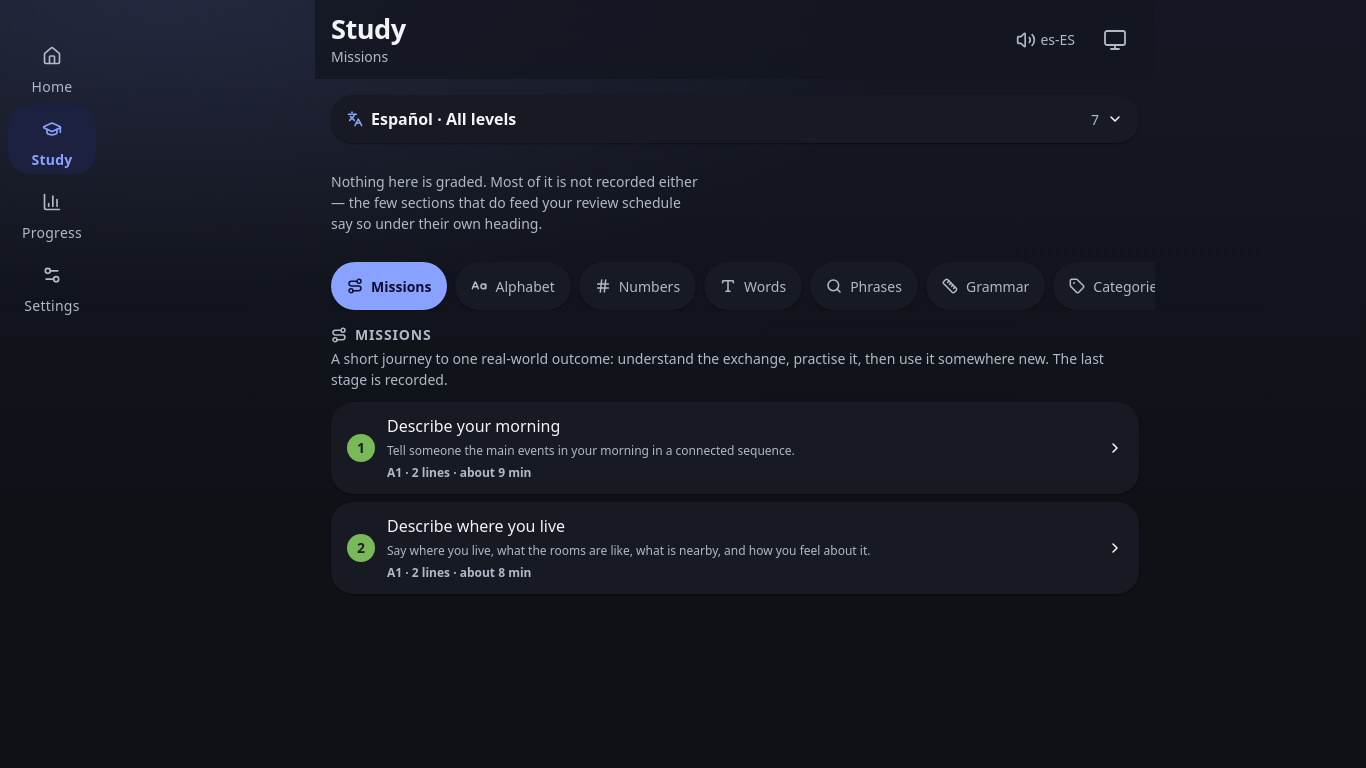
Scenario: the course scope on Study › states the scope in one line and opens the control over the page
This screenshot has width=1366, height=768.
Expected: the element "Course" is not shown
Click the button "Español · All levels 7" at (402, 119), box [331,95,1139,143]
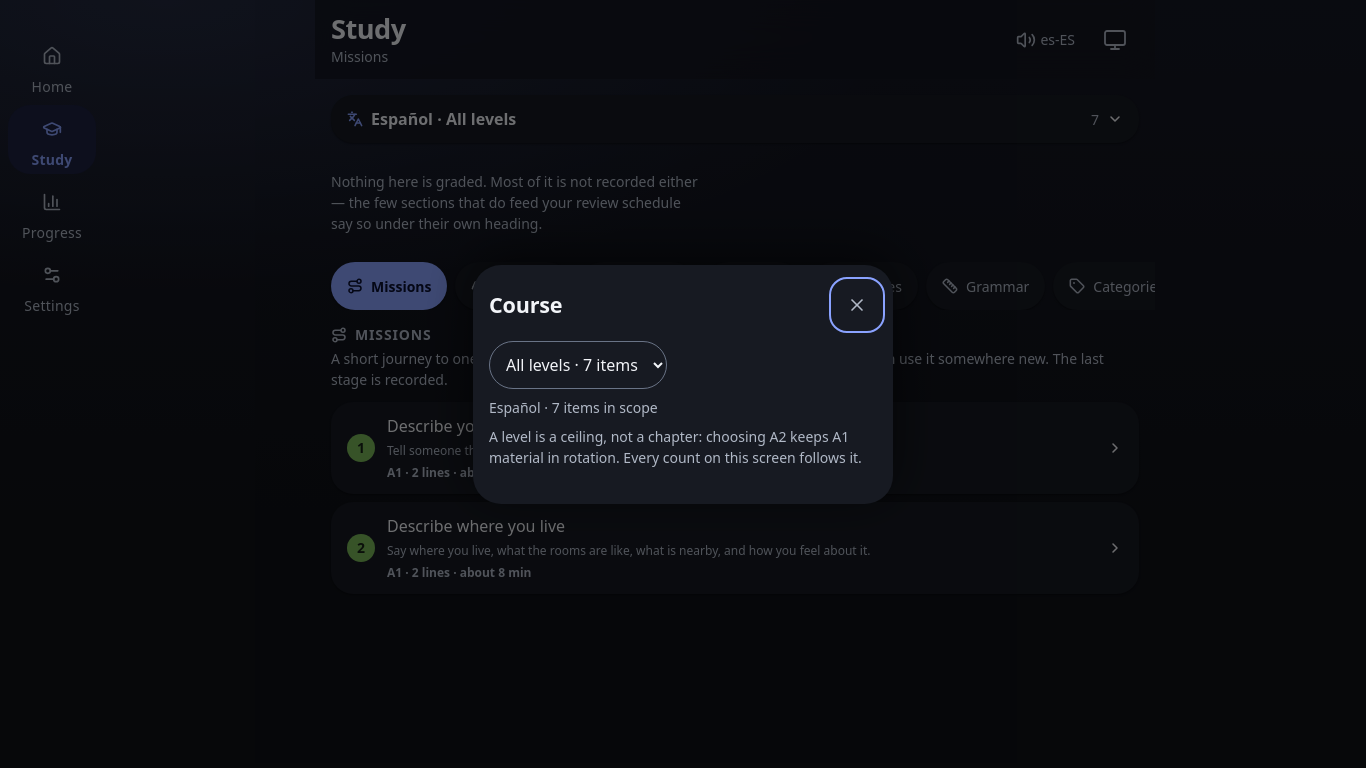
Expected: the element named "Course" is shown, [489,340,667,416]
Expected: the button "Español · All levels 7" is expanded, [331,95,1139,143]
